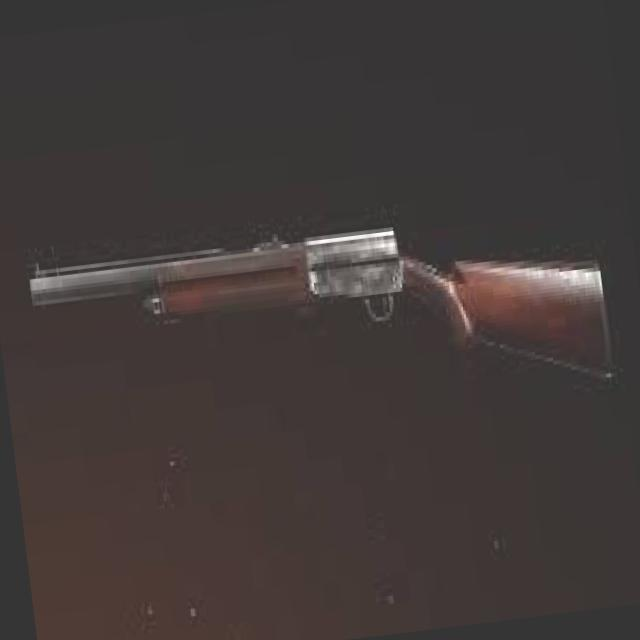long weapon: (18, 231, 618, 341)
